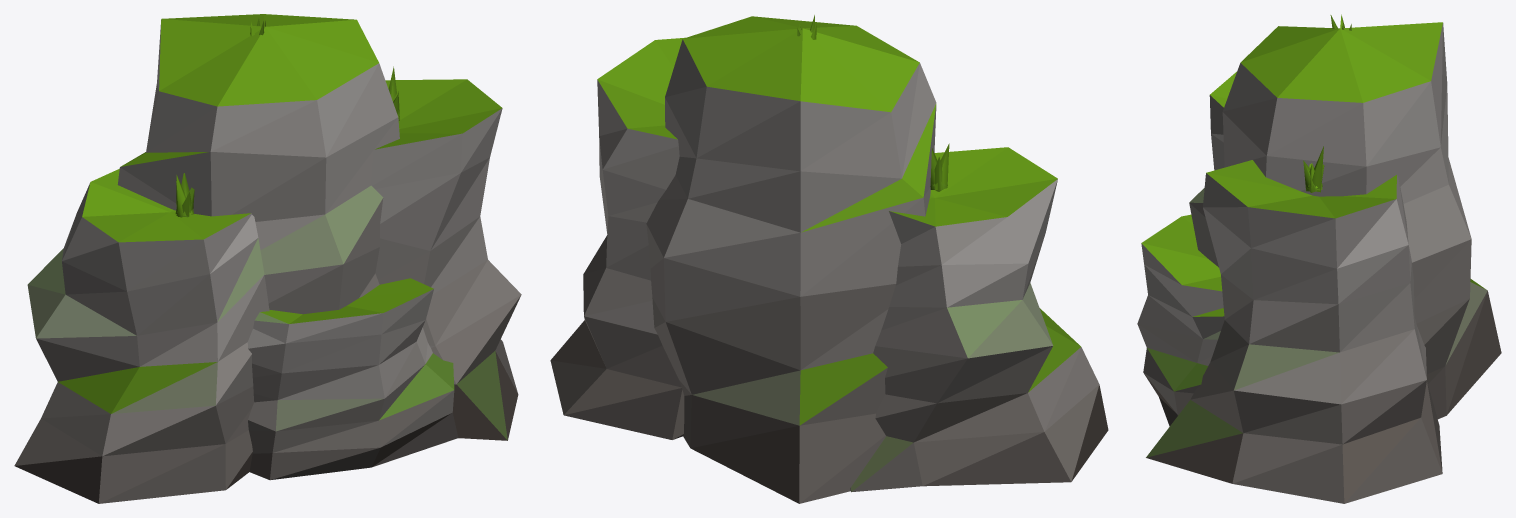
Rendered from batu_cliff_limestone_68729.glb.
The picture shows the model from 3 angles, left to right: view 1: azimuth 30°, elevation 25°; view 2: azimuth 150°, elevation 25°; view 3: azimuth 270°, elevation 25°; orthographic projection. The views are drawn at different scales.
Visible parts, largest first — view 1: Tebing_Sungai_Curam; view 2: Tebing_Sungai_Curam; view 3: Tebing_Sungai_Curam.
Boxes of the visible parts, x1,y1,x2,y2 form: Tebing_Sungai_Curam: (14,14,521,503); Tebing_Sungai_Curam: (550,15,1108,503); Tebing_Sungai_Curam: (1137,14,1501,503).
Size of the model in its own units: 7.71 by 5.77 by 5.09.
